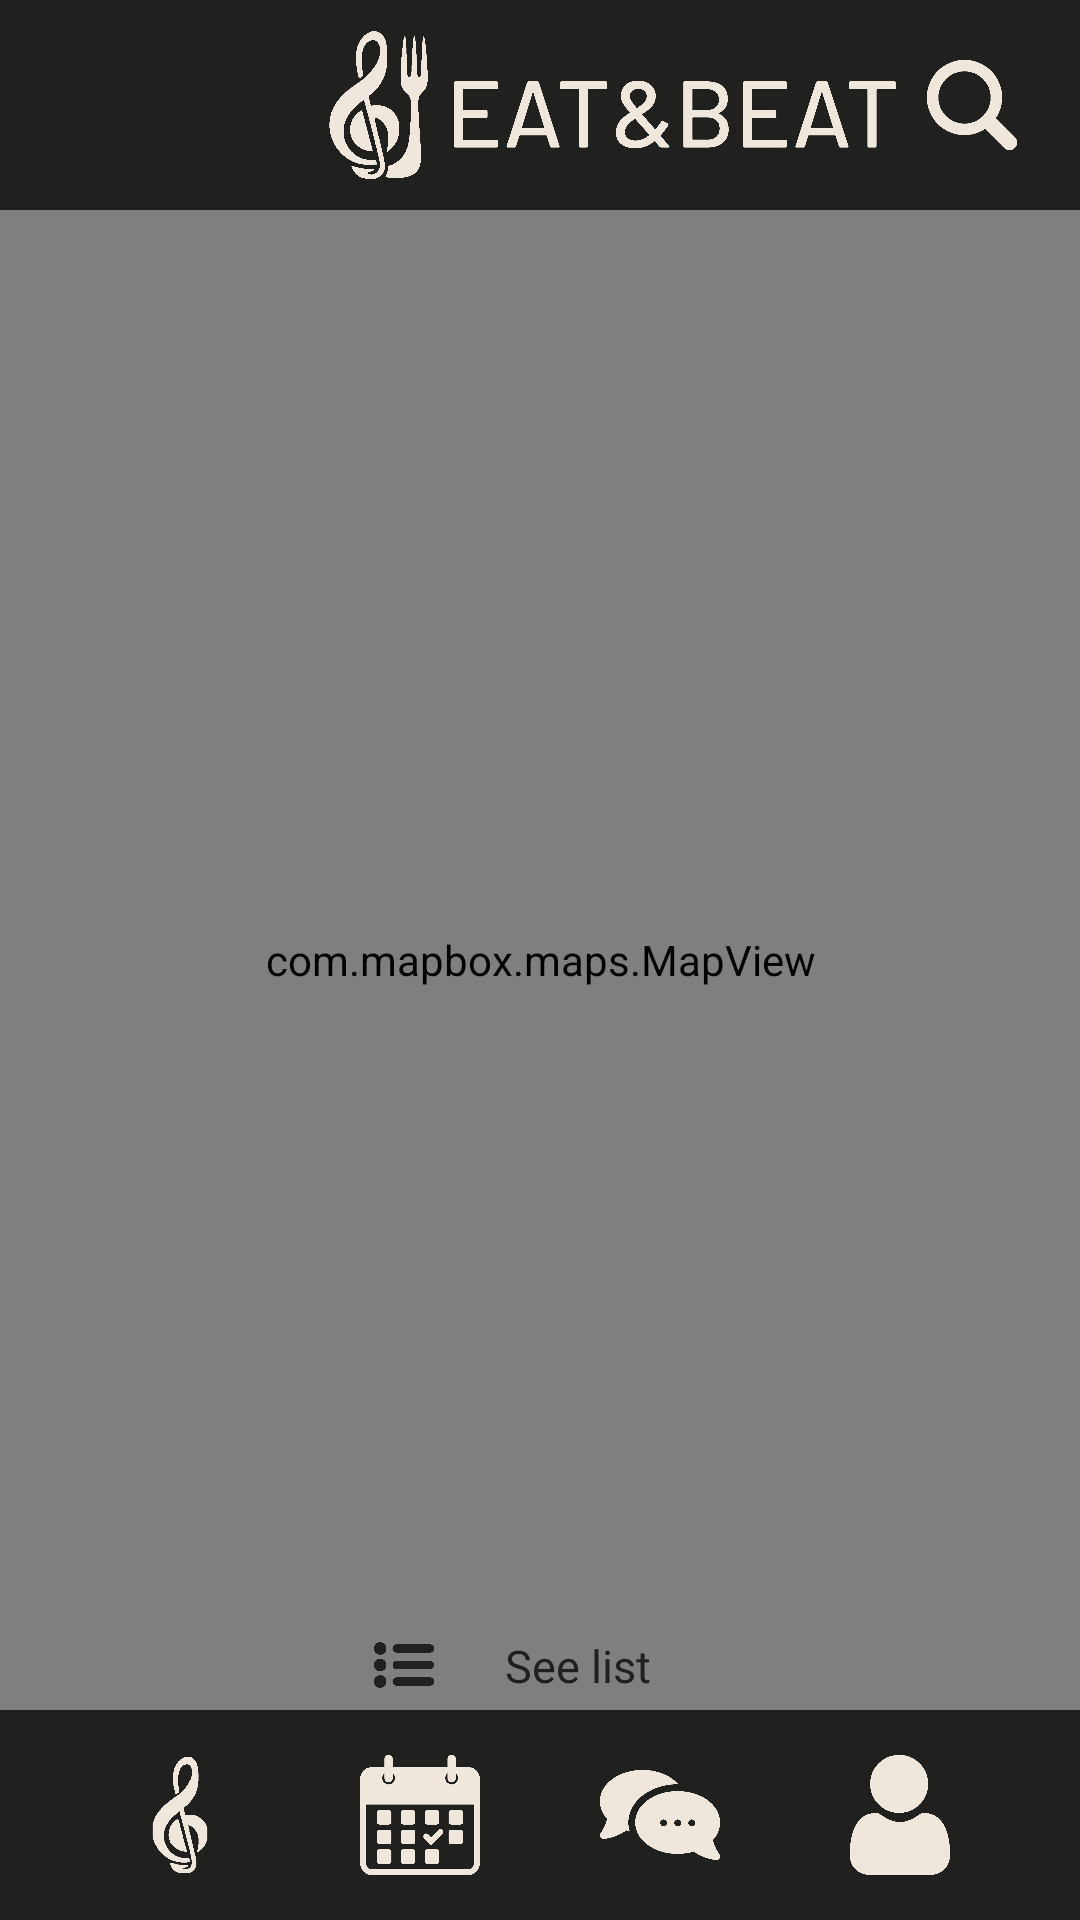

Named icons in this screenshot (1080px x 1920px) and their bounding boxes, BBox(x1, y1, x2, y2):
chat: BBox(600, 1770, 720, 1860)
musician: BBox(152, 1757, 208, 1873)
search: BBox(927, 60, 1017, 150)
user: BBox(850, 1755, 950, 1875)
